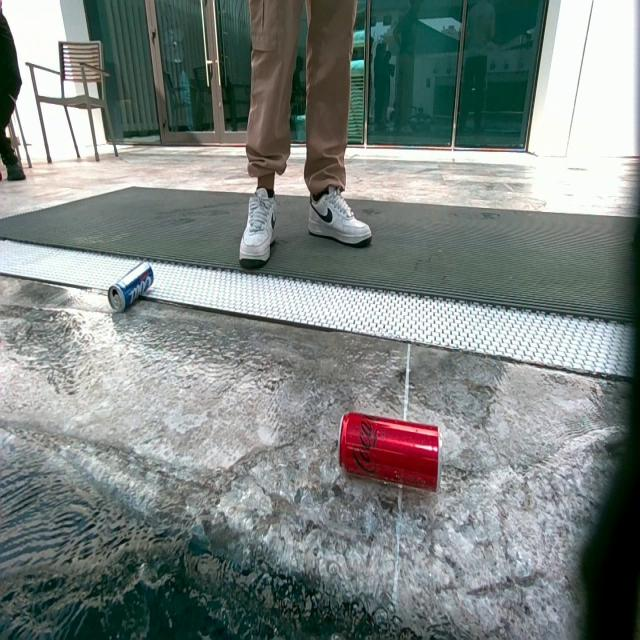Cans: (336, 409, 439, 492), (107, 261, 153, 314)
